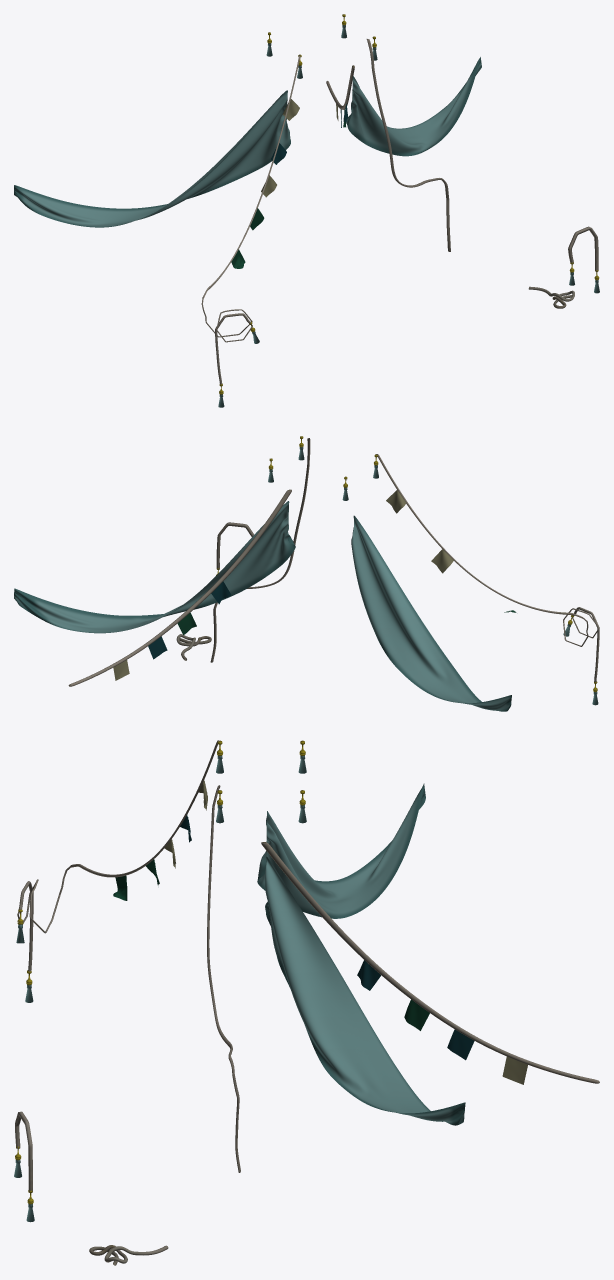
Rendered from Diorama_Divin_PIGuirlandes.fbx.
3 views of the same model, one above another, from view 1: azimuth 30°, elevation 25°; view 2: azimuth 150°, elevation 25°; view 3: azimuth 270°, elevation 25° (orthographic). The views are drawn at different scales.
Parts seen in each view (by area): view 1: Tenture_G.001, Tenture_D.001, NurbsPath.008, NurbsPath.003, NurbsPath.004; view 2: Tenture_G.001, Tenture_D.001, NurbsPath, NurbsPath.008, NurbsPath.003, NurbsPath.005; view 3: Tenture_D.001, Tenture_G.001, NurbsPath, NurbsPath.008, NurbsPath.003, NurbsPath.004, NurbsPath.005.
Part boxes in pixels (x1,y1,x2,y2): Tenture_G.001: (14,90,290,227); Tenture_D.001: (346,57,481,156); NurbsPath.008: (203,55,300,297); NurbsPath.003: (366,39,450,251); NurbsPath.004: (568,226,599,293); Tenture_G.001: (351,515,511,711); Tenture_D.001: (14,501,295,633); NurbsPath: (68,489,291,686); NurbsPath.008: (376,454,582,618); NurbsPath.003: (210,438,310,662); NurbsPath.005: (563,607,599,705); Tenture_D.001: (265,856,465,1125); Tenture_G.001: (257,783,425,918); NurbsPath: (261,842,599,1084); NurbsPath.008: (70,740,219,900); NurbsPath.003: (207,785,240,1172); NurbsPath.004: (14,1111,34,1222); NurbsPath.005: (16,881,33,1002).
Size of the model in its own units: 1684 by 906 by 1303.
